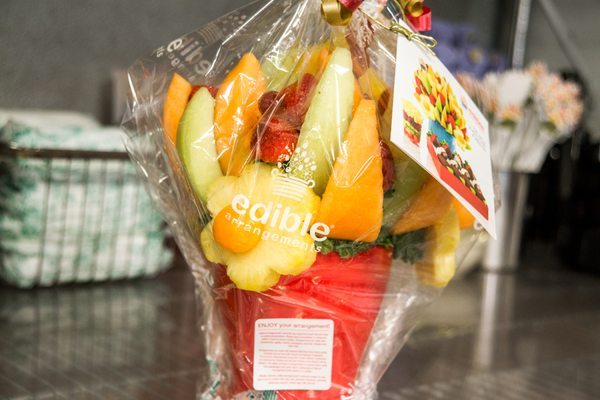taco: (212, 51, 269, 177)
